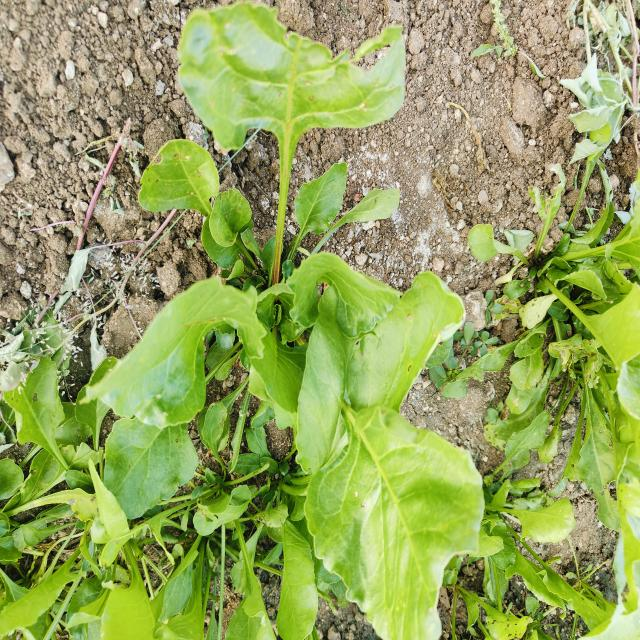half-leaf: (159, 1, 426, 304), (5, 348, 97, 502)
leaves: (285, 342, 512, 640), (283, 251, 464, 459), (75, 276, 272, 449), (80, 411, 220, 550), (118, 120, 238, 274), (262, 504, 336, 640), (280, 146, 354, 277), (478, 486, 582, 566), (320, 183, 415, 269), (78, 469, 152, 574), (197, 179, 268, 267)
